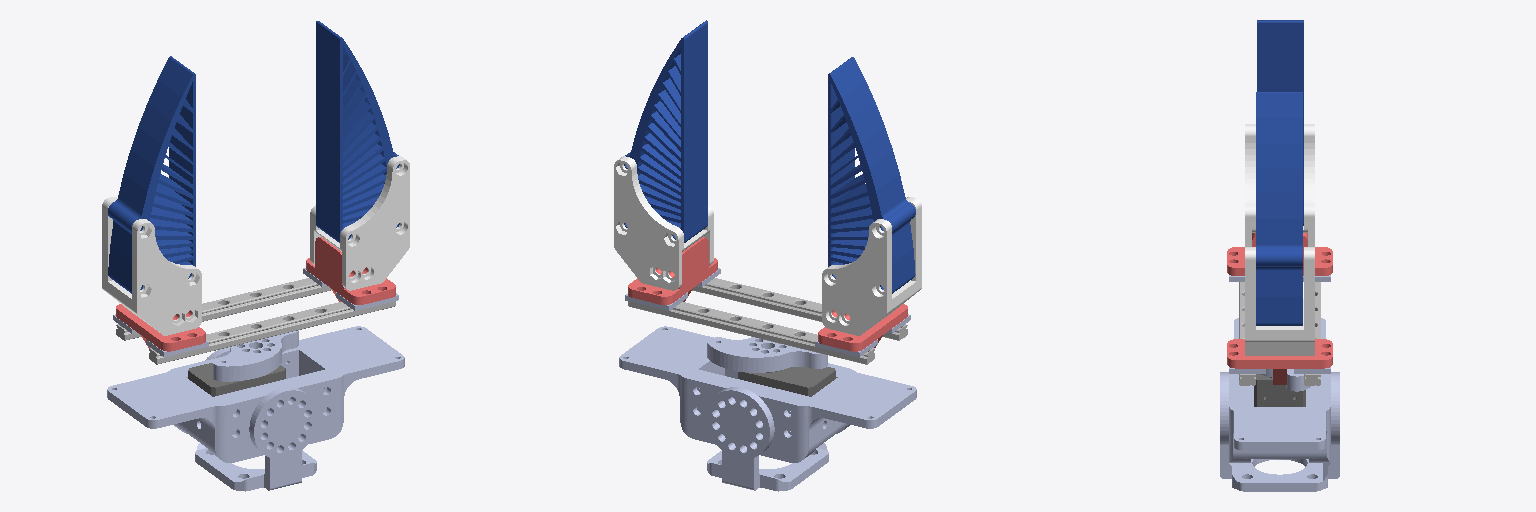
robot.urdf — two_finger:
<!--URDF generated by ONSHAPE BY PTC INC, 1.215-->
<robot name="two_finger">
    <link name="base">
        <inertial>
            <mass value="9.60074e-05" />
            <origin xyz="0.00989949 0.0275 0.013491" rpy="0 -0 0" />
            <inertia ixx="4.52785e-08" ixy="0" ixz="0" iyy="1.33505e-07" iyz="0" izz="1.57011e-07" />
        </inertial>
        <visual>
            <origin xyz="-0.0701005 0.0525 0.0273995" rpy="0 -0 0" />
            <geometry>
                <mesh filename="package://two_finger/meshes/Base.stl" scale="1 1 1" />
            </geometry>
            <material name="0.796078_0.823529_0.937255_0.000000_0.000000">
                <color rgba="0.796078 0.823529 0.937255 1" />
            </material>
        </visual>
    </link>
    <link name="block">
        <inertial>
            <mass value="1.56518e-06" />
            <origin xyz="-0.005 0.0015 0.0075" rpy="0 -0 0" />
            <inertia ixx="5.13549e-11" ixy="0" ixz="0" iyy="1.51997e-10" iyz="0" izz="1.0299e-10" />
        </inertial>
        <visual>
            <origin xyz="-0.005 0.003 0.0075" rpy="0 -0 0" />
            <geometry>
                <mesh filename="package://two_finger/meshes/Block.stl" scale="1 1 1" />
            </geometry>
            <material name="0.796078_0.823529_0.937255_0.000000_0.000000">
                <color rgba="0.796078 0.823529 0.937255 1" />
            </material>
        </visual>
    </link>
    <link name="block_1">
        <inertial>
            <mass value="1.56518e-06" />
            <origin xyz="0.005 0.0015 0.0075" rpy="0 -0 0" />
            <inertia ixx="5.13549e-11" ixy="0" ixz="0" iyy="1.51997e-10" iyz="0" izz="1.0299e-10" />
        </inertial>
        <visual>
            <origin xyz="0.005 0.003 0.0075" rpy="0 -0 0" />
            <geometry>
                <mesh filename="package://two_finger/meshes/Block.stl" scale="1 1 1" />
            </geometry>
            <material name="0.796078_0.823529_0.937255_0.000000_0.000000">
                <color rgba="0.796078 0.823529 0.937255 1" />
            </material>
        </visual>
    </link>
    <link name="block_2">
        <inertial>
            <mass value="1.56518e-06" />
            <origin xyz="-0.005 0.0015 -0.0075" rpy="0 -0 0" />
            <inertia ixx="5.13549e-11" ixy="0" ixz="0" iyy="1.51997e-10" iyz="0" izz="1.0299e-10" />
        </inertial>
        <visual>
            <origin xyz="-0.005 0.003 -0.0075" rpy="0 -0 0" />
            <geometry>
                <mesh filename="package://two_finger/meshes/Block.stl" scale="1 1 1" />
            </geometry>
            <material name="0.796078_0.823529_0.937255_0.000000_0.000000">
                <color rgba="0.796078 0.823529 0.937255 1" />
            </material>
        </visual>
    </link>
    <link name="block_3">
        <inertial>
            <mass value="1.56518e-06" />
            <origin xyz="0.005 0.0015 -0.0075" rpy="0 -0 0" />
            <inertia ixx="5.13549e-11" ixy="0" ixz="0" iyy="1.51997e-10" iyz="0" izz="1.0299e-10" />
        </inertial>
        <visual>
            <origin xyz="0.005 0.003 -0.0075" rpy="0 -0 0" />
            <geometry>
                <mesh filename="package://two_finger/meshes/Block.stl" scale="1 1 1" />
            </geometry>
            <material name="0.796078_0.823529_0.937255_0.000000_0.000000">
                <color rgba="0.796078 0.823529 0.937255 1" />
            </material>
        </visual>
    </link>
    <link name="clamp">
        <inertial>
            <mass value="2.4104e-05" />
            <origin xyz="2.35624e-13 -5.97063e-12 0.018844" rpy="0 -0 0" />
            <inertia ixx="1.14843e-08" ixy="0" ixz="0" iyy="2.35513e-08" iyz="0" izz="1.95862e-08" />
        </inertial>
        <visual>
            <origin xyz="-0.0275 -3.46945e-18 0.005" rpy="0 -0 0" />
            <geometry>
                <mesh filename="package://two_finger/meshes/Clamp.stl" scale="1 1 1" />
            </geometry>
            <material name="0.796078_0.823529_0.937255_0.000000_0.000000">
                <color rgba="0.796078 0.823529 0.937255 1" />
            </material>
        </visual>
    </link>
    <link name="dynamixel_xm430_w350_r">
        <inertial>
            <mass value="4.41073e-05" />
            <origin xyz="-0.0166389 -0.00539576 -0.0143" rpy="0 -0 0" />
            <inertia ixx="7.26484e-09" ixy="1.25677e-10" ixz="0" iyy="1.08932e-08" iyz="0" izz="1.24382e-08" />
        </inertial>
        <visual>
            <origin xyz="-0.0396 0.011 -0.0286" rpy="0 -0 0" />
            <geometry>
                <mesh filename="package://two_finger/meshes/dynamixel_XM430_W350_R.stl" scale="1 1 1" />
            </geometry>
            <material name="0.501961_0.501961_0.501961_0.000000_0.000000">
                <color rgba="0.501961 0.501961 0.501961 1" />
            </material>
        </visual>
    </link>
    <link name="gipper_case">
        <inertial>
            <mass value="2.86395e-05" />
            <origin xyz="0.0180537 -0.0152097 -0.0161438" rpy="0 -0 0" />
            <inertia ixx="1.17204e-08" ixy="-4.70838e-13" ixz="1.22897e-09" iyy="9.20144e-09" iyz="-3.20141e-12" izz="8.16469e-09" />
        </inertial>
        <visual>
            <origin xyz="-0.006 -0.0152 0.0847" rpy="0 -0 0" />
            <geometry>
                <mesh filename="package://two_finger/meshes/Gipper_case.stl" scale="1 1 1" />
            </geometry>
            <material name="1.000000_1.000000_1.000000_0.000000_0.000000">
                <color rgba="1 1 1 1" />
            </material>
        </visual>
    </link>
    <link name="gipper_case_1">
        <inertial>
            <mass value="2.86395e-05" />
            <origin xyz="0.0180537 -0.0152097 -0.0161438" rpy="0 -0 0" />
            <inertia ixx="1.17204e-08" ixy="-4.70838e-13" ixz="1.22897e-09" iyy="9.20144e-09" iyz="-3.20141e-12" izz="8.16469e-09" />
        </inertial>
        <visual>
            <origin xyz="-0.006 -0.0152 0.0847" rpy="0 -0 0" />
            <geometry>
                <mesh filename="package://two_finger/meshes/Gipper_case.stl" scale="1 1 1" />
            </geometry>
            <material name="1.000000_1.000000_1.000000_0.000000_0.000000">
                <color rgba="1 1 1 1" />
            </material>
        </visual>
    </link>
    <link name="gripper_support">
        <inertial>
            <mass value="1.89595e-05" />
            <origin xyz="-0.00581655 -0.0152972 0.013" rpy="0 -0 0" />
            <inertia ixx="3.98339e-09" ixy="2.93394e-10" ixz="0" iyy="3.42247e-09" iyz="1.43098e-15" izz="2.29475e-09" />
        </inertial>
        <visual>
            <origin xyz="-0.0216198 -0.007 -0.0155" rpy="0 -0 0" />
            <geometry>
                <mesh filename="package://two_finger/meshes/Gripper_support.stl" scale="1 1 1" />
            </geometry>
            <material name="1.000000_0.501961_0.501961_0.000000_0.000000">
                <color rgba="1 0.501961 0.501961 1" />
            </material>
        </visual>
    </link>
    <link name="gripper_support_1">
        <inertial>
            <mass value="1.89595e-05" />
            <origin xyz="0.00230328 -0.0141822 0.013" rpy="0 -0 0" />
            <inertia ixx="3.98339e-09" ixy="2.93394e-10" ixz="0" iyy="3.42247e-09" iyz="1.43098e-15" izz="2.29475e-09" />
        </inertial>
        <visual>
            <origin xyz="-0.0135 -0.00588499 -0.0155" rpy="0 -0 0" />
            <geometry>
                <mesh filename="package://two_finger/meshes/Gripper_support.stl" scale="1 1 1" />
            </geometry>
            <material name="1.000000_0.501961_0.501961_0.000000_0.000000">
                <color rgba="1 0.501961 0.501961 1" />
            </material>
        </visual>
    </link>
    <link name="link">
        <inertial>
            <mass value="3.47229e-06" />
            <origin xyz="-0.0214556 -0.00340137 -0.00312234" rpy="0 -0 0" />
            <inertia ixx="1.05957e-10" ixy="-3.94569e-11" ixz="3.16674e-11" iyy="7.05198e-10" iyz="6.17955e-12" izz="6.38214e-10" />
        </inertial>
        <visual>
            <origin xyz="-0.035 0 0" rpy="0 -0 0" />
            <geometry>
                <mesh filename="package://two_finger/meshes/Link.stl" scale="1 1 1" />
            </geometry>
            <material name="0.796078_0.823529_0.937255_0.000000_0.000000">
                <color rgba="0.796078 0.823529 0.937255 1" />
            </material>
        </visual>
    </link>
    <link name="link_1">
        <inertial>
            <mass value="3.47229e-06" />
            <origin xyz="-0.0214556 -0.00340137 -0.00312234" rpy="0 -0 0" />
            <inertia ixx="1.05957e-10" ixy="-3.94569e-11" ixz="3.16674e-11" iyy="7.05198e-10" iyz="6.17955e-12" izz="6.38214e-10" />
        </inertial>
        <visual>
            <origin xyz="-0.035 0 0" rpy="0 -0 0" />
            <geometry>
                <mesh filename="package://two_finger/meshes/Link.stl" scale="1 1 1" />
            </geometry>
            <material name="0.796078_0.823529_0.937255_0.000000_0.000000">
                <color rgba="0.796078 0.823529 0.937255 1" />
            </material>
        </visual>
    </link>
    <link name="link__1__loop_closure">
        <inertial>
            <mass value="1e-09" />
            <origin xyz="0 0 0" rpy="0 -0 0" />
            <inertia ixx="4e-14" ixy="0" ixz="0" iyy="4e-14" iyz="0" izz="4e-14" />
        </inertial>
    </link>
    <link name="link__2__loop_closure">
        <inertial>
            <mass value="1e-09" />
            <origin xyz="0 0 0" rpy="0 -0 0" />
            <inertia ixx="4e-14" ixy="0" ixz="0" iyy="4e-14" iyz="0" izz="4e-14" />
        </inertial>
    </link>
    <link name="mgnr09r315hm">
        <inertial>
            <mass value="7.10975e-06" />
            <origin xyz="0.07 -0.00307814 -5.52605e-06" rpy="0 -0 0" />
            <inertia ixx="7.3598e-11" ixy="0" ixz="0" iyy="1.27398e-08" iyz="1.15967e-13" izz="1.27163e-08" />
        </inertial>
        <visual>
            <origin xyz="-0.0075 0 0.0045" rpy="0 -0 0" />
            <geometry>
                <mesh filename="package://two_finger/meshes/MGNR09R315HM.stl" scale="1 1 1" />
            </geometry>
            <material name="0.796078_0.796078_0.796078_0.000000_0.000000">
                <color rgba="0.796078 0.796078 0.796078 1" />
            </material>
        </visual>
    </link>
    <link name="mgnr09r315hm_1">
        <inertial>
            <mass value="7.10975e-06" />
            <origin xyz="0.07 -0.00307814 -5.52605e-06" rpy="0 -0 0" />
            <inertia ixx="7.3598e-11" ixy="0" ixz="0" iyy="1.27398e-08" iyz="1.15967e-13" izz="1.27163e-08" />
        </inertial>
        <visual>
            <origin xyz="-0.0075 0 0.0045" rpy="0 -0 0" />
            <geometry>
                <mesh filename="package://two_finger/meshes/MGNR09R315HM.stl" scale="1 1 1" />
            </geometry>
            <material name="0.796078_0.796078_0.796078_0.000000_0.000000">
                <color rgba="0.796078 0.796078 0.796078 1" />
            </material>
        </visual>
    </link>
    <link name="planar_4" />
    <link name="planar_4_1" />
    <link name="planar_5" />
    <link name="planar_5_1" />
    <link name="root" />
    <link name="small_motor_mount">
        <inertial>
            <mass value="1.0786e-05" />
            <origin xyz="0.000264358 -0.00445466 0.000270164" rpy="0 -0 0" />
            <inertia ixx="7.45917e-10" ixy="1.29287e-13" ixz="-4.93148e-10" iyy="3.5822e-09" iyz="1.32127e-13" izz="2.98218e-09" />
        </inertial>
        <visual>
            <origin xyz="0 0 0" rpy="0 -0 0" />
            <geometry>
                <mesh filename="package://two_finger/meshes/Small_motor_mount.stl" scale="1 1 1" />
            </geometry>
            <material name="0.796078_0.823529_0.937255_0.000000_0.000000">
                <color rgba="0.796078 0.823529 0.937255 1" />
            </material>
        </visual>
    </link>
    <link name="small_motor_test_2_base">
        <inertial>
            <mass value="4.70869e-05" />
            <origin xyz="-0.076 -0.023021 0.021" rpy="0 -0 0" />
            <inertia ixx="1.97752e-08" ixy="0" ixz="0" iyy="1.84606e-07" iyz="0" izz="1.73024e-07" />
        </inertial>
        <visual>
            <origin xyz="-0.156 -0.026 -0.004" rpy="0 -0 0" />
            <geometry>
                <mesh filename="package://two_finger/meshes/Small_Motor_test_2_Base.stl" scale="1 1 1" />
            </geometry>
            <material name="0.000000_0.752941_0.752941_0.000000_0.000000">
                <color rgba="0 0.752941 0.752941 1" />
            </material>
        </visual>
    </link>
    <link name="soft_gripper_finger">
        <inertial>
            <mass value="4.70738e-05" />
            <origin xyz="-0.0173609 0.0381915 -0.0129" rpy="0 -0 0" />
            <inertia ixx="5.05765e-08" ixy="5.83018e-09" ixz="0" iyy="9.02641e-09" iyz="0" izz="5.43806e-08" />
        </inertial>
        <visual>
            <origin xyz="-0.035 -0.005 0" rpy="0 -0 0" />
            <geometry>
                <mesh filename="package://two_finger/meshes/soft_gripper_finger.stl" scale="1 1 1" />
            </geometry>
            <material name="0.231373_0.380392_0.705882_0.000000_0.000000">
                <color rgba="0.231373 0.380392 0.705882 1" />
            </material>
        </visual>
    </link>
    <link name="soft_gripper_finger_1">
        <inertial>
            <mass value="4.70738e-05" />
            <origin xyz="-0.0173609 0.0381915 -0.0129" rpy="0 -0 0" />
            <inertia ixx="5.05765e-08" ixy="5.83018e-09" ixz="0" iyy="9.02641e-09" iyz="0" izz="5.43806e-08" />
        </inertial>
        <visual>
            <origin xyz="-0.035 -0.005 0" rpy="0 -0 0" />
            <geometry>
                <mesh filename="package://two_finger/meshes/soft_gripper_finger.stl" scale="1 1 1" />
            </geometry>
            <material name="0.231373_0.380392_0.705882_0.000000_0.000000">
                <color rgba="0.231373 0.380392 0.705882 1" />
            </material>
        </visual>
    </link>
    <joint name="fastened_1" type="fixed">
        <origin xyz="3.46945e-18 6.93889e-18 4.33681e-18" rpy="2.13568e-32 5.31737e-33 -1.5708" />
        <axis xyz="0 0 1" />
        <parent link="root" />
        <child link="clamp" />
    </joint>
    <joint name="fastened_10" type="fixed">
        <origin xyz="0.0085 -0.018885 0.0282" rpy="1.5708 -8.04912e-16 3.14159" />
        <axis xyz="0 -1 0" />
        <parent link="gripper_support_1" />
        <child link="gipper_case_1" />
    </joint>
    <joint name="fastened_11" type="fixed">
        <origin xyz="0.0858995 0.0065 0.0273995" rpy="-1.5708 -3.37038e-32 -1.3886e-31" />
        <axis xyz="0 -1 0" />
        <parent link="base" />
        <child link="small_motor_test_2_base" />
    </joint>
    <joint name="fastened_12" type="fixed">
        <origin xyz="-0.0182005 0.04185 0.0213995" rpy="1.5708 -3.38813e-21 3.14159" />
        <axis xyz="0 0 1" />
        <parent link="base" />
        <child link="dynamixel_xm430_w350_r" />
    </joint>
    <joint name="fastened_13" type="fixed">
        <origin xyz="0.0289911 -0.0021 -0.0217317" rpy="-1.5708 2.46733e-30 -3.29899e-29" />
        <axis xyz="0 0 -1" />
        <parent link="gipper_case_1" />
        <child link="soft_gripper_finger" />
    </joint>
    <joint name="fastened_14" type="fixed">
        <origin xyz="0.0289911 -0.0021 -0.0217317" rpy="-1.5708 -7.02888e-17 -7.02888e-17" />
        <axis xyz="0 0 1" />
        <parent link="gipper_case" />
        <child link="soft_gripper_finger_1" />
    </joint>
    <joint name="fastened_2" type="fixed">
        <origin xyz="0.0275 -0.00989949 0.027421" rpy="-1.44607e-16 -2.00374e-16 1.5708" />
        <axis xyz="1.73472e-16 -1 -2.00618e-32" />
        <parent link="clamp" />
        <child link="base" />
    </joint>
    <joint name="fastened_3" type="fixed">
        <origin xyz="-0.0131198 -0.007 -0.0121" rpy="4.74207e-19 -1.38778e-16 -4.80745e-31" />
        <axis xyz="0 -1 0" />
        <parent link="gripper_support" />
        <child link="block_1" />
    </joint>
    <joint name="fastened_4" type="fixed">
        <origin xyz="-0.0131198 -0.007 0.0381" rpy="6.13299e-17 -2.498e-16 -5.19187e-31" />
        <axis xyz="0 -1 0" />
        <parent link="gripper_support" />
        <child link="block_3" />
    </joint>
    <joint name="fastened_5" type="fixed">
        <origin xyz="-0.005 -0.00588499 -0.0121" rpy="3.14159 -1.38778e-16 -3.14159" />
        <axis xyz="0 -1 0" />
        <parent link="gripper_support_1" />
        <child link="block_2" />
    </joint>
    <joint name="fastened_6" type="fixed">
        <origin xyz="-0.146 -0.031 0.0035" rpy="-8.29972e-17 2.77556e-17 2.75156e-17" />
        <axis xyz="0 1 0" />
        <parent link="small_motor_test_2_base" />
        <child link="mgnr09r315hm_1" />
    </joint>
    <joint name="fastened_7" type="fixed">
        <origin xyz="-0.146 -0.031 0.0385" rpy="-1.50861e-16 -2.498e-16 -1.44023e-16" />
        <axis xyz="0 -1 0" />
        <parent link="small_motor_test_2_base" />
        <child link="mgnr09r315hm" />
    </joint>
    <joint name="fastened_8" type="fixed">
        <origin xyz="-0.005 -0.00588499 0.0381" rpy="3.14159 8.32667e-17 3.14159" />
        <axis xyz="0 -1 0" />
        <parent link="gripper_support_1" />
        <child link="block" />
    </joint>
    <joint name="fastened_9" type="fixed">
        <origin xyz="0.000380163 -0.02 0.0282" rpy="1.5708 -7.21645e-16 -3.14159" />
        <axis xyz="0 -1 0" />
        <parent link="gripper_support" />
        <child link="gipper_case" />
    </joint>
    <joint name="planar_4" type="prismatic">
        <origin xyz="0.129112 -0.00361501 -0.0045" rpy="-3.14159 -2.77556e-17 -3.14159" />
        <axis xyz="-1 0 0" />
        <parent link="mgnr09r315hm" />
        <child link="planar_4_1" />
        <limit effort="1" velocity="1" lower="-10000" upper="10000" />
    </joint>
    <joint name="planar_4_1" type="prismatic">
        <origin xyz="0 0 0" rpy="0 -0 0" />
        <axis xyz="0 -1 0" />
        <parent link="planar_4_1" />
        <child link="planar_4" />
        <limit effort="1" velocity="1" lower="-10000" upper="10000" />
    </joint>
    <joint name="planar_4_2" type="continuous">
        <origin xyz="0 0 0" rpy="0 -0 0" />
        <axis xyz="0 0 1" />
        <parent link="planar_4" />
        <child link="gripper_support_1" />
    </joint>
    <joint name="planar_5" type="prismatic">
        <origin xyz="0.0189804 -0.0025 0.0045" rpy="1.91119e-16 -5.55112e-17 -7.01768e-17" />
        <axis xyz="1 0 0" />
        <parent link="mgnr09r315hm_1" />
        <child link="planar_5_1" />
        <limit effort="1" velocity="1" lower="-10000" upper="10000" />
    </joint>
    <joint name="planar_5_1" type="prismatic">
        <origin xyz="0 0 0" rpy="0 -0 0" />
        <axis xyz="0 1 0" />
        <parent link="planar_5_1" />
        <child link="planar_5" />
        <limit effort="1" velocity="1" lower="-10000" upper="10000" />
    </joint>
    <joint name="planar_5_2" type="continuous">
        <origin xyz="0 0 0" rpy="0 -0 0" />
        <axis xyz="0 0 1" />
        <parent link="planar_5" />
        <child link="gripper_support" />
    </joint>
    <joint name="revolute_1" type="continuous">
        <origin xyz="-0.0281 0.0135 -0.0143" rpy="-2.02118e-16 -0.349418 3.14159" />
        <axis xyz="0 1 0" />
        <parent link="dynamixel_xm430_w350_r" />
        <child link="small_motor_mount" />
    </joint>
    <joint name="revolute_2" type="continuous">
        <origin xyz="0.027 -0.009 8.42967e-18" rpy="3.14159 -0.618169 -3.14159" />
        <axis xyz="0 -1 0" />
        <parent link="small_motor_mount" />
        <child link="link_1" />
    </joint>
    <joint name="revolute_3" type="continuous">
        <origin xyz="-0.027 -0.009 -1.93259e-17" rpy="7.33602e-17 0.615207 2.98888e-16" />
        <axis xyz="0 -1 0" />
        <parent link="small_motor_mount" />
        <child link="link" />
    </joint>
    <joint name="revolute_5_loop_closure" type="continuous">
        <origin xyz="2.77556e-17 0.00811501 0.013" rpy="-7.62939e-16 0.268751 -2.48014e-16" />
        <axis xyz="0 1 0" />
        <parent link="gripper_support_1" />
        <child link="link__1__loop_closure" />
    </joint>
    <joint name="revolute_6_loop_closure" type="continuous">
        <origin xyz="-0.00811984 0.007 0.013" rpy="-2.37866e-16 0.265789 4.03328e-17" />
        <axis xyz="0 1 0" />
        <parent link="gripper_support" />
        <child link="link__2__loop_closure" />
    </joint>
</robot>

--- Facts derived from the render (not from the file) ---
3 views of the same robot in one strip: view 1: azimuth 30°, elevation 25°; view 2: azimuth 150°, elevation 25°; view 3: azimuth 270°, elevation 25° (orthographic).
Robot: two_finger — 26 links, 25 joints (7 continuous, 4 prismatic, 14 fixed); root link root; default pose: every joint at zero.
Links seen in each view (by area): view 1: base, soft_gripper_finger_1, soft_gripper_finger, clamp, gipper_case, gipper_case_1, mgnr09r315hm_1, small_motor_mount, mgnr09r315hm, gripper_support_1, gripper_support, dynamixel_xm430_w350_r; view 2: base, soft_gripper_finger_1, soft_gripper_finger, gipper_case, clamp, gipper_case_1, mgnr09r315hm, small_motor_mount, mgnr09r315hm_1, gripper_support_1, dynamixel_xm430_w350_r, gripper_support; view 3: soft_gripper_finger, base, clamp, gipper_case_1, soft_gripper_finger_1, gipper_case, gripper_support_1, dynamixel_xm430_w350_r, gripper_support, mgnr09r315hm, mgnr09r315hm_1.
Boxes of the visible links, left/top/right/bottom form: base: left=107, top=326, right=404, bottom=462; soft_gripper_finger_1: left=108, top=56, right=195, bottom=293; soft_gripper_finger: left=316, top=21, right=399, bottom=242; clamp: left=195, top=347, right=317, bottom=491; gipper_case: left=102, top=197, right=201, bottom=335; gipper_case_1: left=310, top=156, right=409, bottom=290; mgnr09r315hm_1: left=149, top=301, right=395, bottom=364; small_motor_mount: left=213, top=330, right=298, bottom=381; mgnr09r315hm: left=116, top=278, right=331, bottom=340; gripper_support_1: left=306, top=237, right=395, bottom=304; gripper_support: left=116, top=304, right=205, bottom=351; dynamixel_xm430_w350_r: left=188, top=363, right=285, bottom=396; base: left=619, top=326, right=916, bottom=462; soft_gripper_finger_1: left=828, top=57, right=915, bottom=293; soft_gripper_finger: left=624, top=20, right=707, bottom=242; gipper_case: left=822, top=197, right=921, bottom=335; clamp: left=706, top=387, right=828, bottom=491; gipper_case_1: left=614, top=156, right=713, bottom=290; mgnr09r315hm: left=628, top=301, right=874, bottom=364; small_motor_mount: left=707, top=337, right=827, bottom=372; mgnr09r315hm_1: left=692, top=278, right=907, bottom=340; gripper_support_1: left=628, top=237, right=717, bottom=304; dynamixel_xm430_w350_r: left=738, top=367, right=835, bottom=396; gripper_support: left=818, top=304, right=907, bottom=351; soft_gripper_finger: left=1256, top=92, right=1302, bottom=325; base: left=1229, top=318, right=1330, bottom=462; clamp: left=1220, top=372, right=1339, bottom=491; gipper_case_1: left=1245, top=247, right=1314, bottom=355; soft_gripper_finger_1: left=1257, top=20, right=1303, bottom=225; gipper_case: left=1245, top=124, right=1314, bottom=246; gripper_support_1: left=1227, top=339, right=1332, bottom=384; dynamixel_xm430_w350_r: left=1254, top=374, right=1305, bottom=406; gripper_support: left=1227, top=233, right=1332, bottom=275; mgnr09r315hm: left=1304, top=282, right=1320, bottom=385; mgnr09r315hm_1: left=1239, top=282, right=1255, bottom=385.
Bounding box of the posed robot: 0.1693 × 0.065 × 0.2484 m (x, y, z).
16 mesh visuals loaded from 11 distinct referenced files (9 binary STL); not drawn: 3 (reference not matched to a file when rendering).
